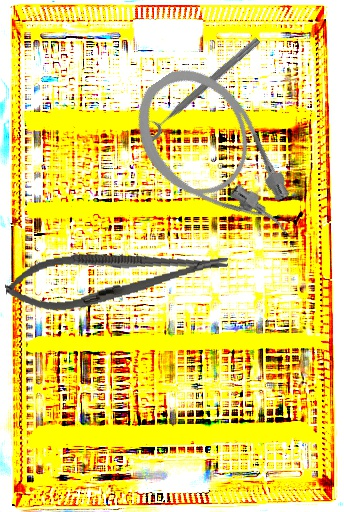Cannula: (115, 49, 317, 274)
Fixation Ring: (135, 28, 264, 144)
Needle Holder: (2, 235, 232, 319)
